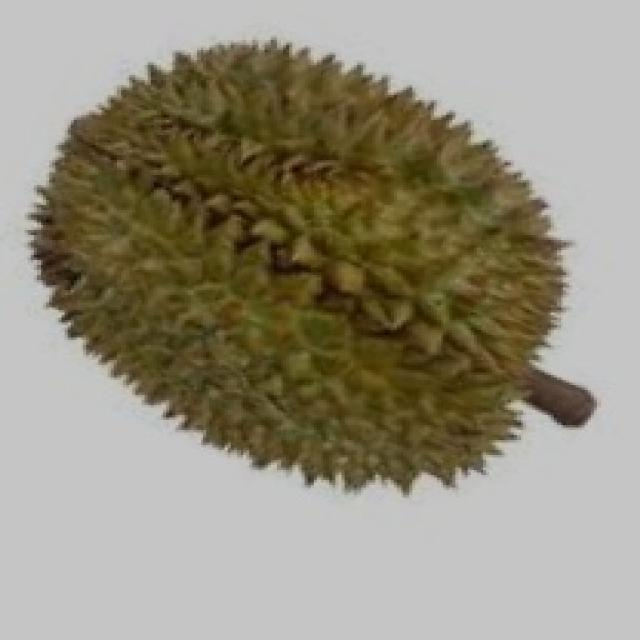fruit: (3, 115, 375, 530), (298, 138, 610, 538)
